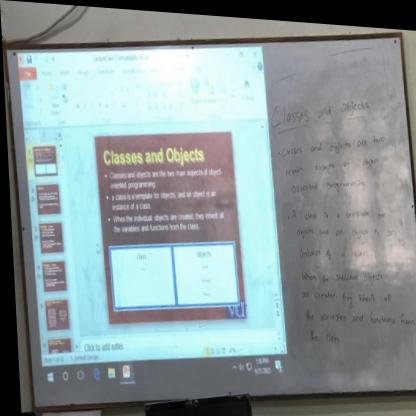Handwritten text: (262, 75, 379, 135), (276, 139, 385, 179), (274, 123, 387, 159), (298, 299, 414, 327), (292, 273, 393, 303), (292, 216, 398, 241), (287, 165, 372, 194), (287, 197, 389, 221), (294, 260, 384, 278), (295, 241, 372, 260)
